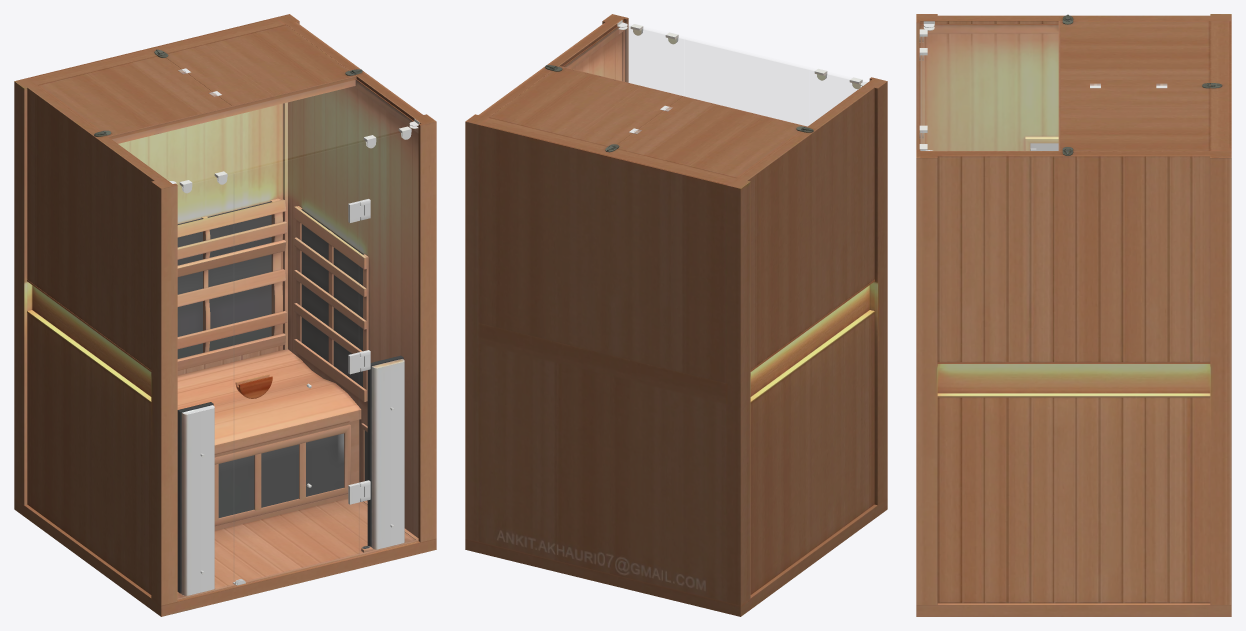
3 views of the same model, side by side, from view 1: azimuth 30°, elevation 25°; view 2: azimuth 150°, elevation 25°; view 3: azimuth 270°, elevation 25° (orthographic). The views are drawn at different scales.
Parts seen in each view (by area): view 1: Base, Glass, Stand, Metal; view 2: Base, Glass, Stand, Metal; view 3: Base, Glass, Stand, Metal.
Boxes of the visible parts, x1,y1,x2,y2 form: Base: (14,14,436,616); Glass: (113,80,417,598); Stand: (27,76,368,526); Metal: (94,49,419,595); Base: (465,14,887,616); Glass: (565,25,861,125); Stand: (559,66,874,402); Metal: (545,20,867,152); Base: (916,14,1231,616); Glass: (920,26,1058,150); Stand: (937,21,1210,397); Metal: (919,14,1222,155).
Bounding box in the file's own units: 1.15 × 1.71 × 1.06.
2 materials, 1 textured.
